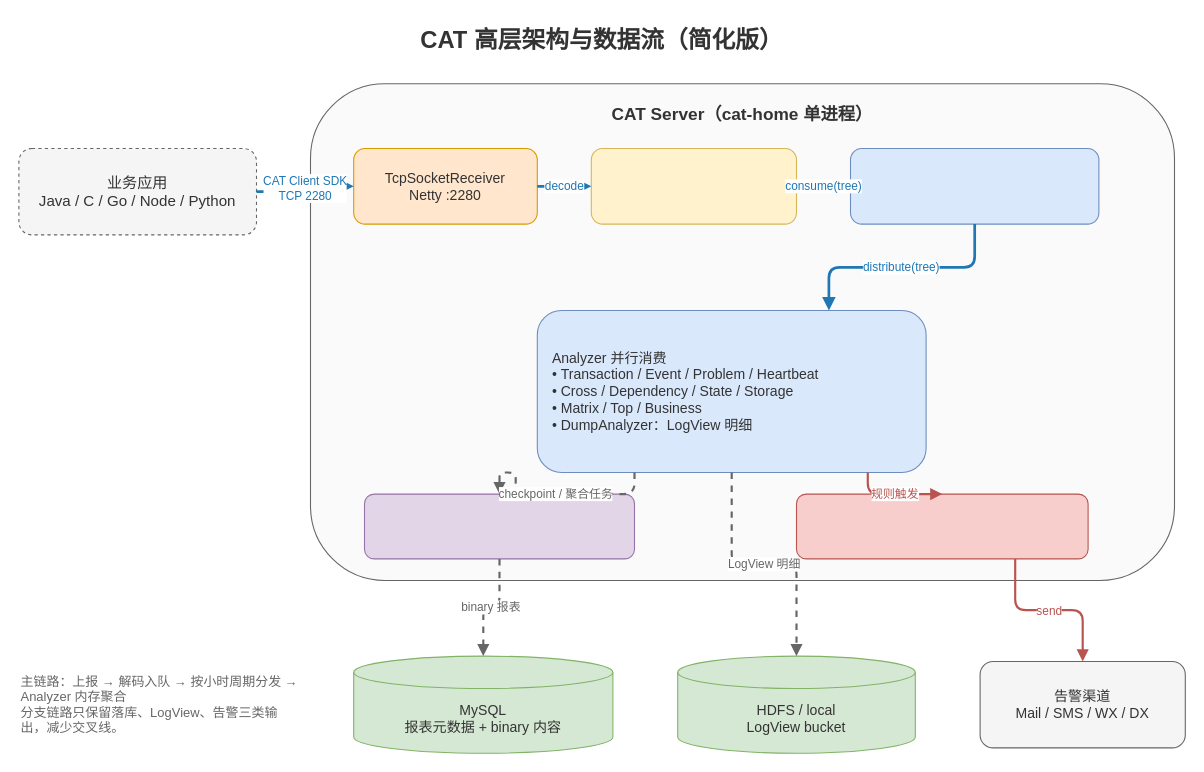
Some shapes in this 1204 by 772 pixel diagram are drawn without their labels. Here are the shapes that lost their labels. From the top down, the box of each, then its label:
(590, 147, 796, 224): MessageHandler + DefaultMessageQueue
(849, 147, 1099, 224): RealtimeConsumer PeriodManager / Period(60min)
(363, 493, 634, 559): TaskConsumer 离线聚合：小时 / 日 / 周 / 月报
(795, 493, 1088, 559): AlarmManager RuleAlertor → AlertManager.send()
